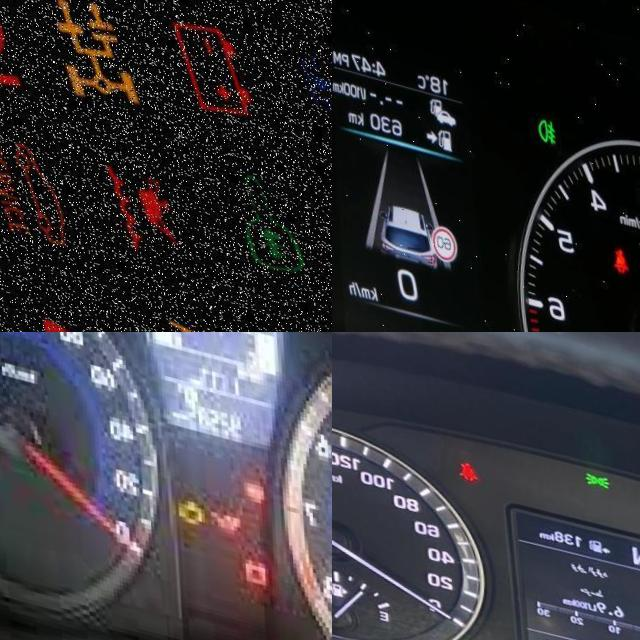Seat Belt: (608, 217, 628, 249), (457, 449, 476, 474)
